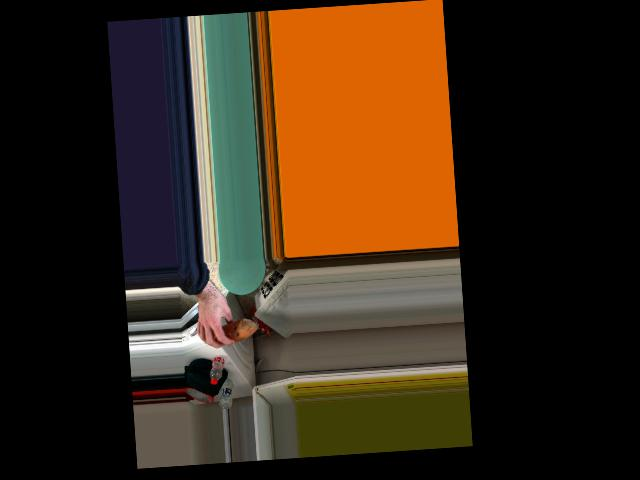sweet_potato: (208, 318, 257, 343)
